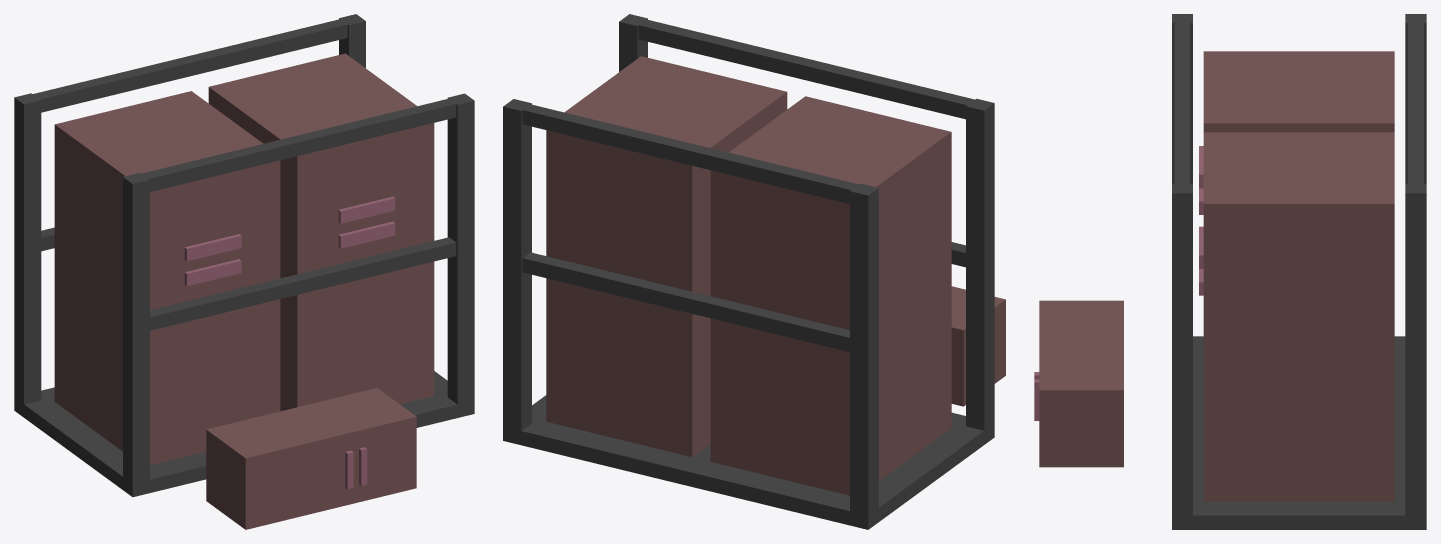
Rendered from ce_ammo2_flame_bio_c.obj.
3 views of the same model, side by side, from view 1: azimuth 30°, elevation 25°; view 2: azimuth 150°, elevation 25°; view 3: azimuth 270°, elevation 25° (orthographic). The views are drawn at different scales.
Parts seen in each view (by area): view 1: ce_ammo2_flame_bio_c_9, ce_ammo2_flame_bio_c_12, ce_ammo2_flame_bio_c_15, ce_ammo2_flame_bio_c_2, ce_ammo2_flame_bio_c_1, ce_ammo2_flame_bio_c_3, ce_ammo2_flame_bio_c_0, ce_ammo2_flame_bio_c_8, ce_ammo2_flame_bio_c_7, ce_ammo2_flame_bio_c_5, ce_ammo2_flame_bio_c_4, ce_ammo2_flame_bio_c_13 (+3 smaller); view 2: ce_ammo2_flame_bio_c_9, ce_ammo2_flame_bio_c_12, ce_ammo2_flame_bio_c_0, ce_ammo2_flame_bio_c_1, ce_ammo2_flame_bio_c_2, ce_ammo2_flame_bio_c_4, ce_ammo2_flame_bio_c_7, ce_ammo2_flame_bio_c_8, ce_ammo2_flame_bio_c_6, ce_ammo2_flame_bio_c_15, ce_ammo2_flame_bio_c_3; view 3: ce_ammo2_flame_bio_c_12, ce_ammo2_flame_bio_c_9, ce_ammo2_flame_bio_c_15, ce_ammo2_flame_bio_c_0, ce_ammo2_flame_bio_c_4, ce_ammo2_flame_bio_c_3, ce_ammo2_flame_bio_c_7, ce_ammo2_flame_bio_c_8, ce_ammo2_flame_bio_c_2, ce_ammo2_flame_bio_c_1.
Part boxes in pixels (<box>): ce_ammo2_flame_bio_c_9: <box>54,91,280,464</box>; ce_ammo2_flame_bio_c_12: <box>208,53,434,411</box>; ce_ammo2_flame_bio_c_15: <box>206,388,416,529</box>; ce_ammo2_flame_bio_c_2: <box>14,93,41,404</box>; ce_ammo2_flame_bio_c_1: <box>123,173,149,483</box>; ce_ammo2_flame_bio_c_3: <box>447,93,474,404</box>; ce_ammo2_flame_bio_c_0: <box>14,371,474,497</box>; ce_ammo2_flame_bio_c_8: <box>33,19,347,112</box>; ce_ammo2_flame_bio_c_7: <box>141,98,456,191</box>; ce_ammo2_flame_bio_c_5: <box>150,237,456,330</box>; ce_ammo2_flame_bio_c_4: <box>339,14,365,67</box>; ce_ammo2_flame_bio_c_13: <box>338,221,395,248</box>; ce_ammo2_flame_bio_c_9: <box>710,96,951,495</box>; ce_ammo2_flame_bio_c_12: <box>546,56,787,457</box>; ce_ammo2_flame_bio_c_0: <box>503,395,994,529</box>; ce_ammo2_flame_bio_c_1: <box>966,98,994,430</box>; ce_ammo2_flame_bio_c_2: <box>850,183,878,515</box>; ce_ammo2_flame_bio_c_4: <box>503,99,531,430</box>; ce_ammo2_flame_bio_c_7: <box>638,19,974,119</box>; ce_ammo2_flame_bio_c_8: <box>522,104,858,203</box>; ce_ammo2_flame_bio_c_6: <box>522,252,849,352</box>; ce_ammo2_flame_bio_c_15: <box>951,286,1005,406</box>; ce_ammo2_flame_bio_c_3: <box>619,14,647,71</box>; ce_ammo2_flame_bio_c_12: <box>1203,132,1394,501</box>; ce_ammo2_flame_bio_c_9: <box>1203,51,1394,132</box>; ce_ammo2_flame_bio_c_15: <box>1039,300,1123,467</box>; ce_ammo2_flame_bio_c_0: <box>1172,336,1426,529</box>; ce_ammo2_flame_bio_c_4: <box>1405,184,1426,515</box>; ce_ammo2_flame_bio_c_3: <box>1172,184,1192,515</box>; ce_ammo2_flame_bio_c_7: <box>1174,23,1190,184</box>; ce_ammo2_flame_bio_c_8: <box>1408,23,1423,184</box>; ce_ammo2_flame_bio_c_2: <box>1405,14,1426,184</box>; ce_ammo2_flame_bio_c_1: <box>1172,14,1192,184</box>.
Size of the model in its own units: 0.8 by 0.7 by 0.739.
